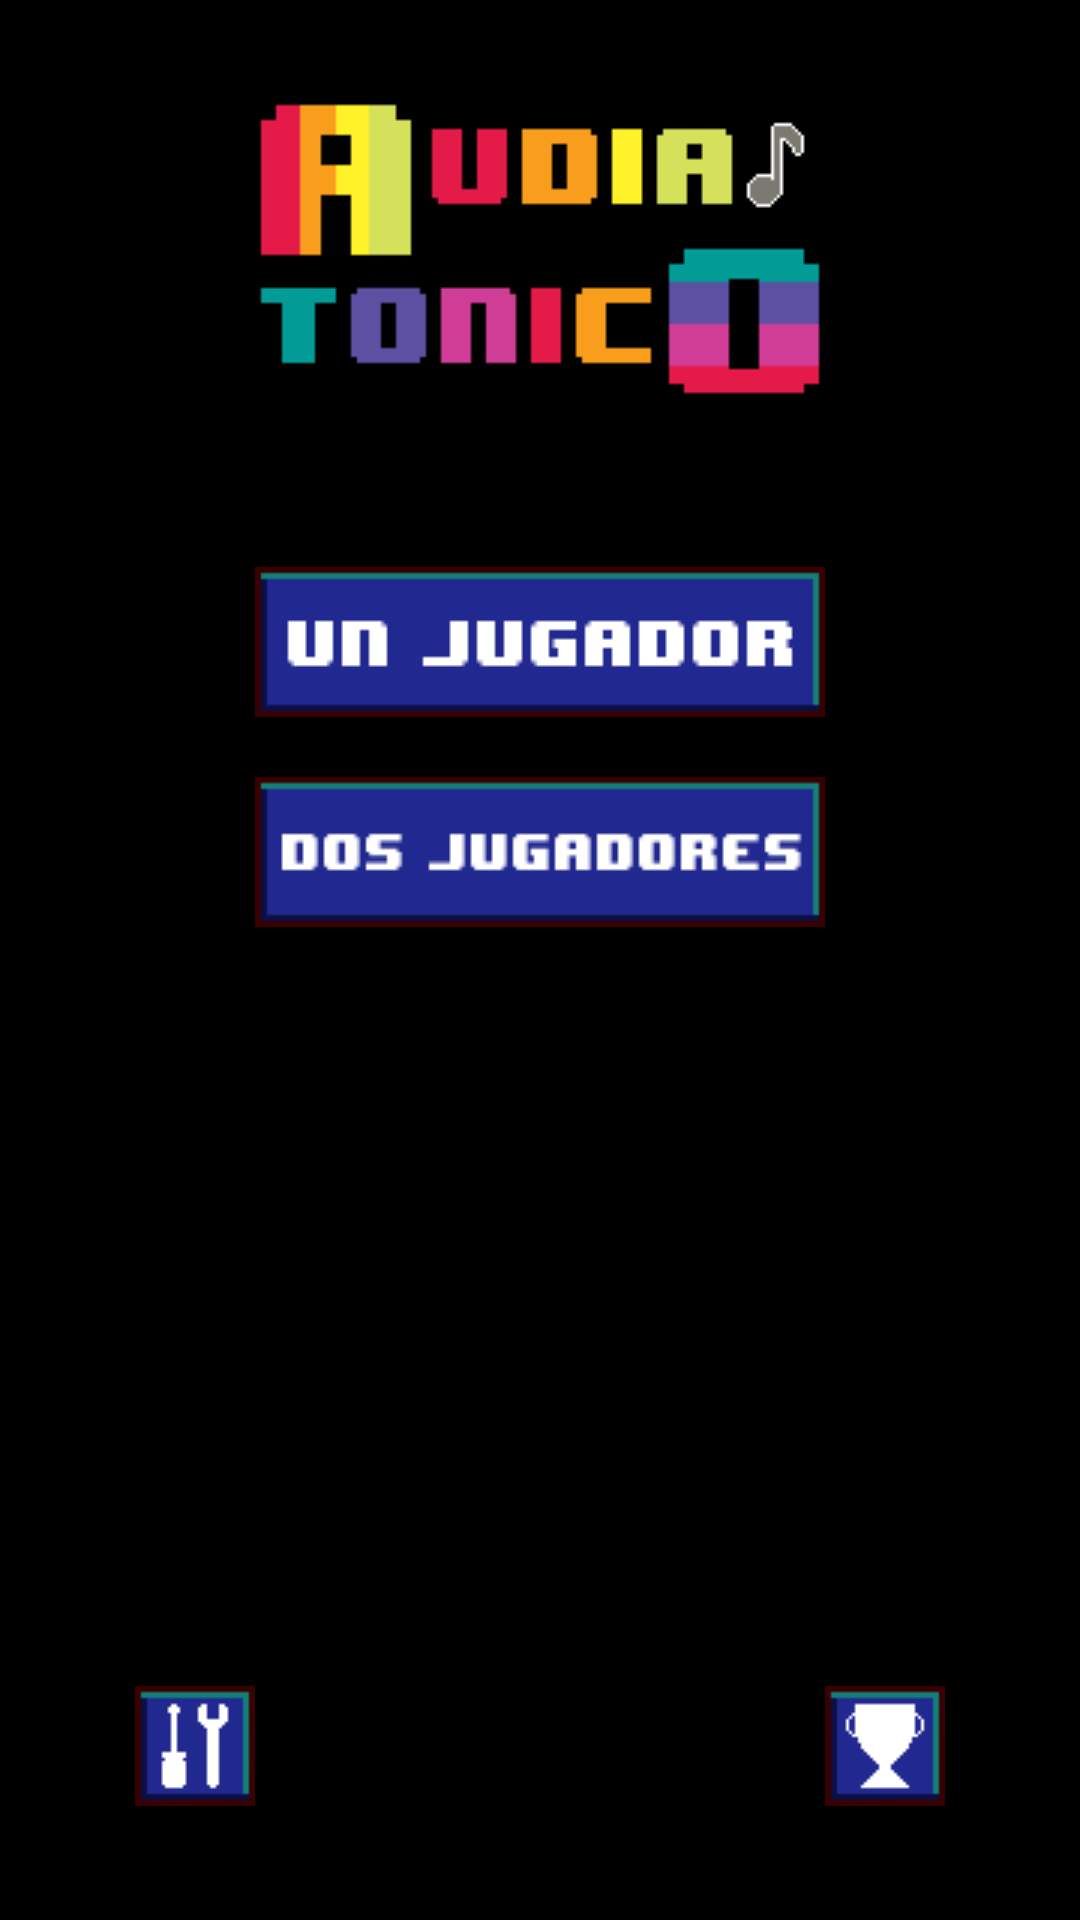

Icon bounding boxes for this 1080 × 1920 phone screenshot, format region(x1, y1, x2, y2):
options estilo: region(135, 1686, 255, 1806)
score estilo: region(825, 1686, 945, 1806)
